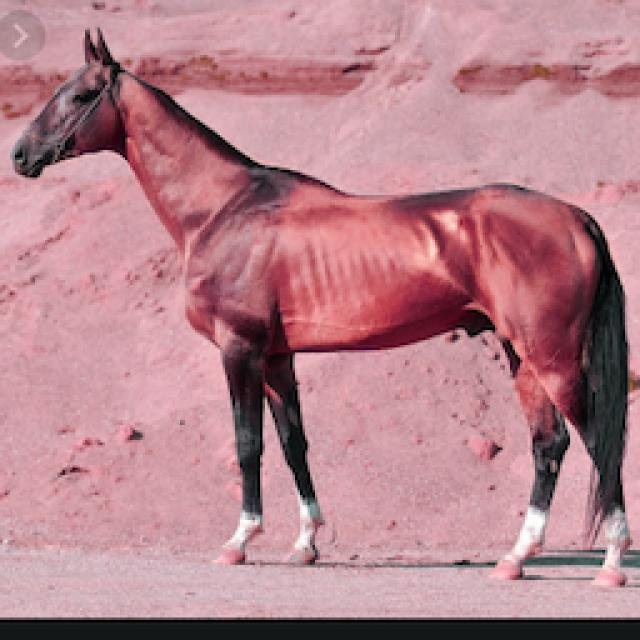Horse: (5, 22, 640, 590)
